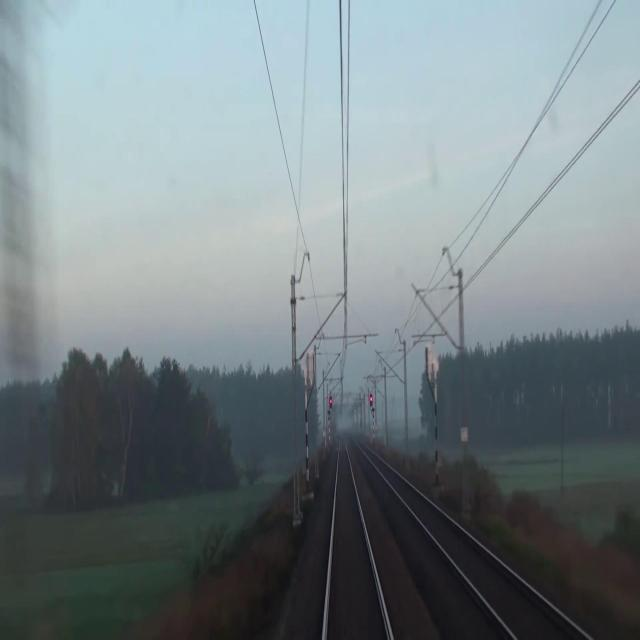rail-track: (374, 458, 582, 639), (326, 444, 388, 639)
